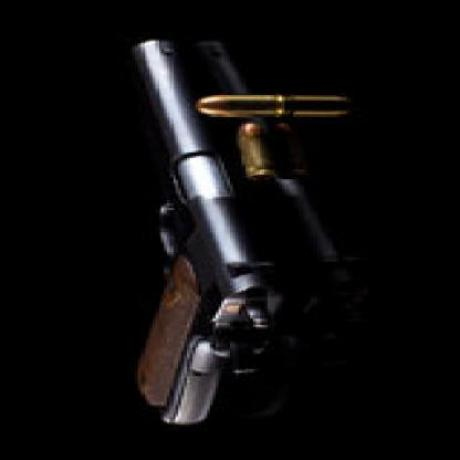weapon: (116, 37, 285, 425)
